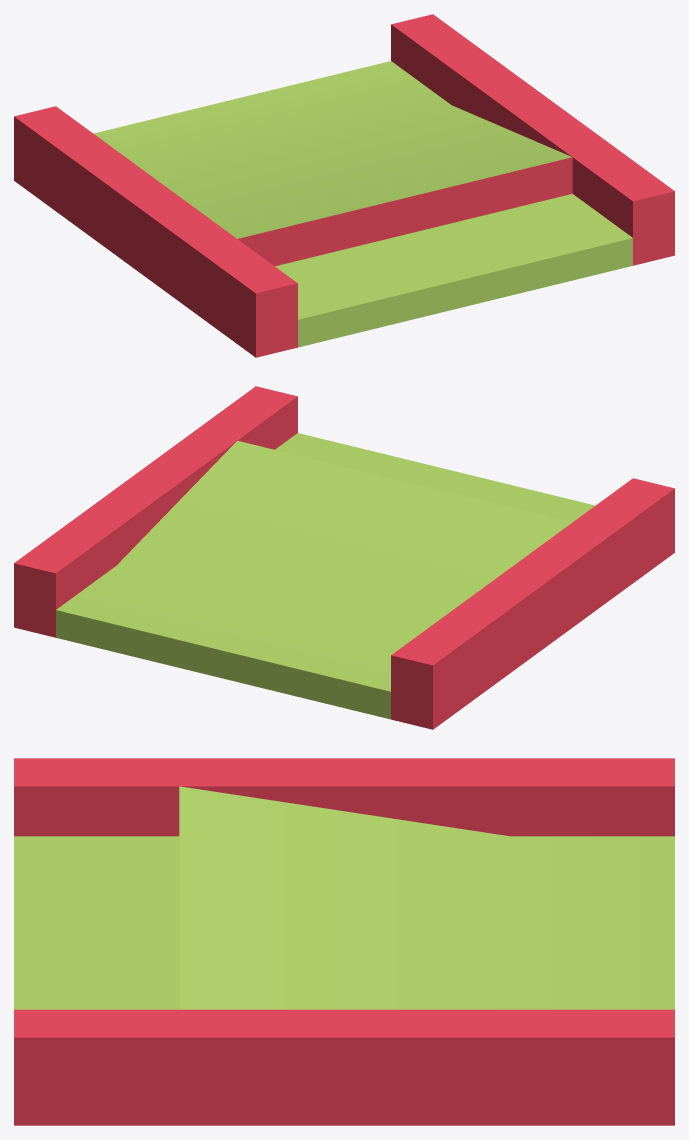
Rendered from rampSharp.fbx.
3 views of the same model, one above another, from view 1: azimuth 30°, elevation 25°; view 2: azimuth 150°, elevation 25°; view 3: azimuth 270°, elevation 25° (orthographic). The views are drawn at different scales.
Visible parts, largest first — view 1: rampSharp; view 2: rampSharp; view 3: rampSharp.
Boxes of the visible parts, box(x1,y1,x2,y2) form: rampSharp: box(14, 14, 674, 357); rampSharp: box(14, 386, 674, 729); rampSharp: box(14, 758, 674, 1125).
Bounding box in the file's own units: 10 × 1.47 × 10.
